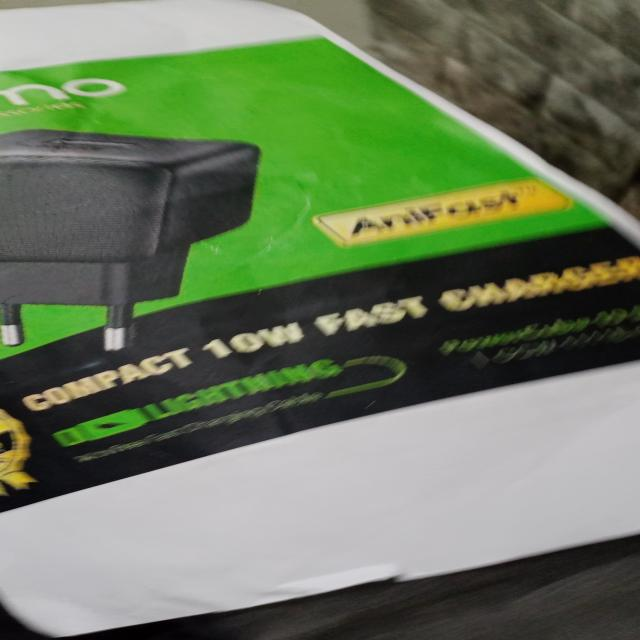PowerCube 10 Sleek OCW-1111ExL53: (420, 304, 639, 372)
